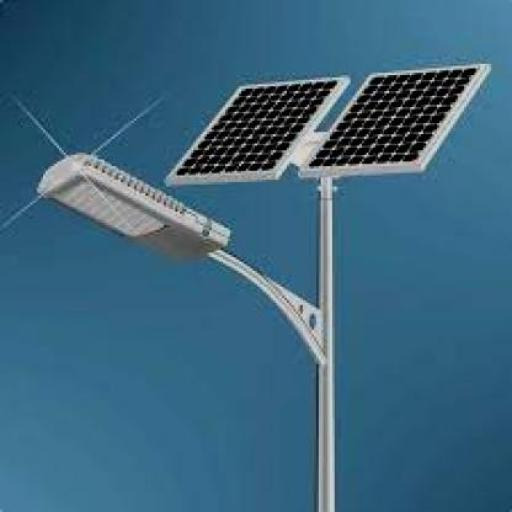street light: (34, 153, 344, 510)
